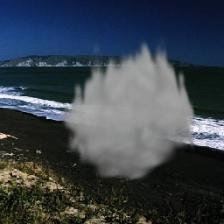fire: (59, 36, 197, 184)
